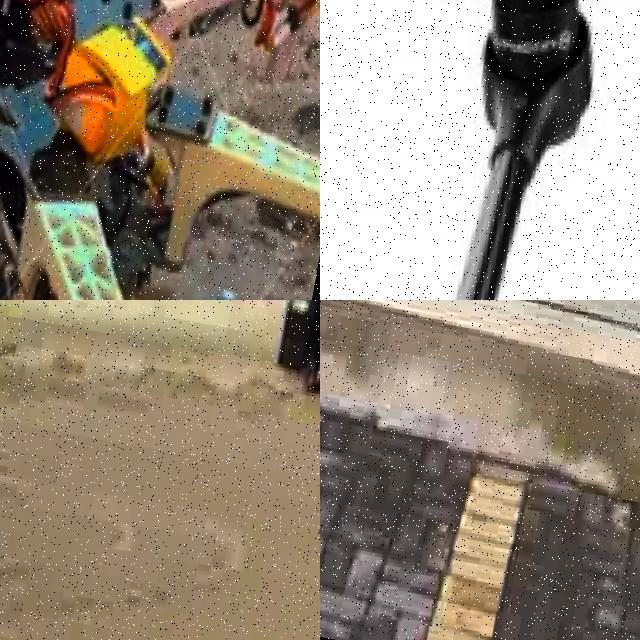drone: (0, 0, 320, 300), (320, 0, 640, 300)
